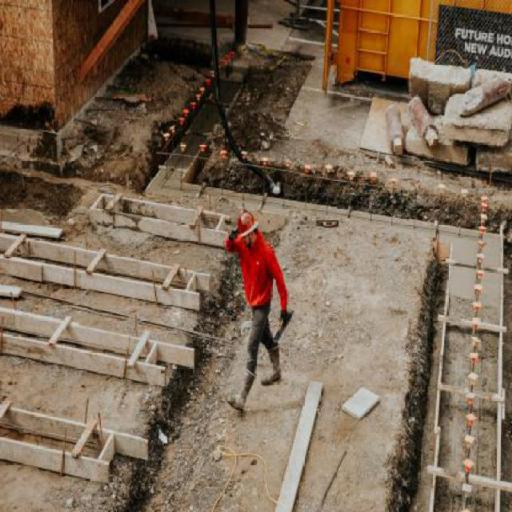hardhat: (228, 210, 262, 239)
person: (215, 199, 297, 423)
